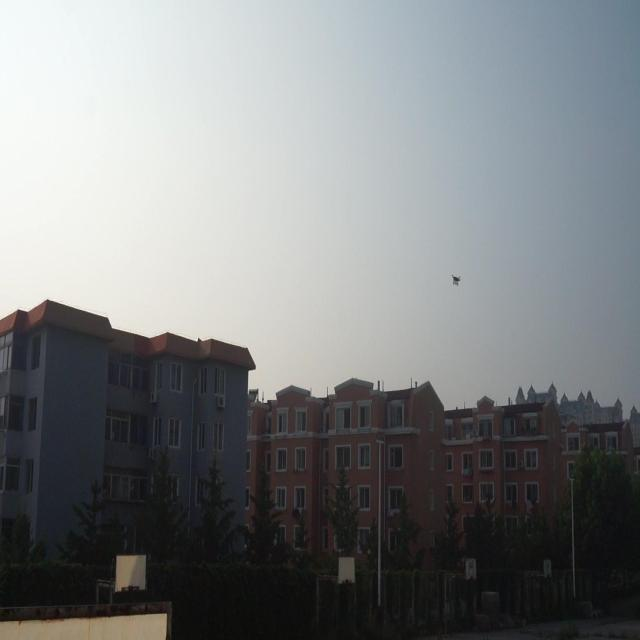drone: (452, 270, 462, 287)
